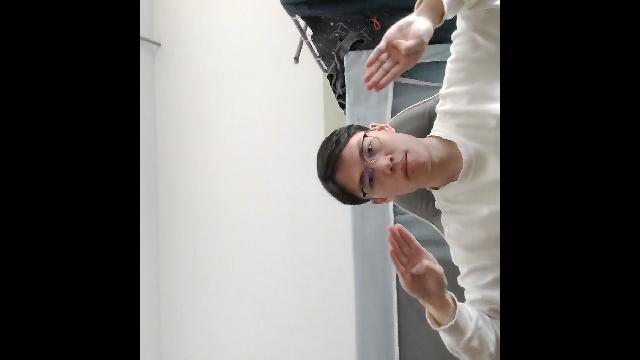four: (386, 220, 450, 309), (362, 16, 431, 92)
